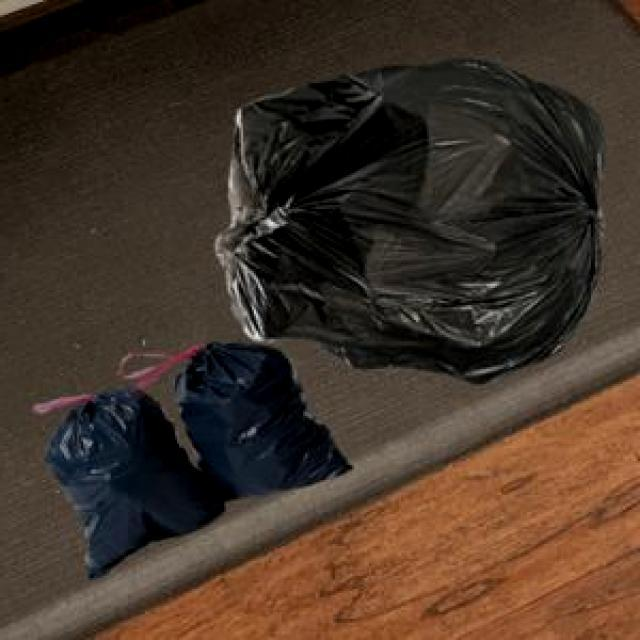Trashbag: (224, 56, 612, 387), (42, 389, 198, 577), (179, 343, 354, 499)
